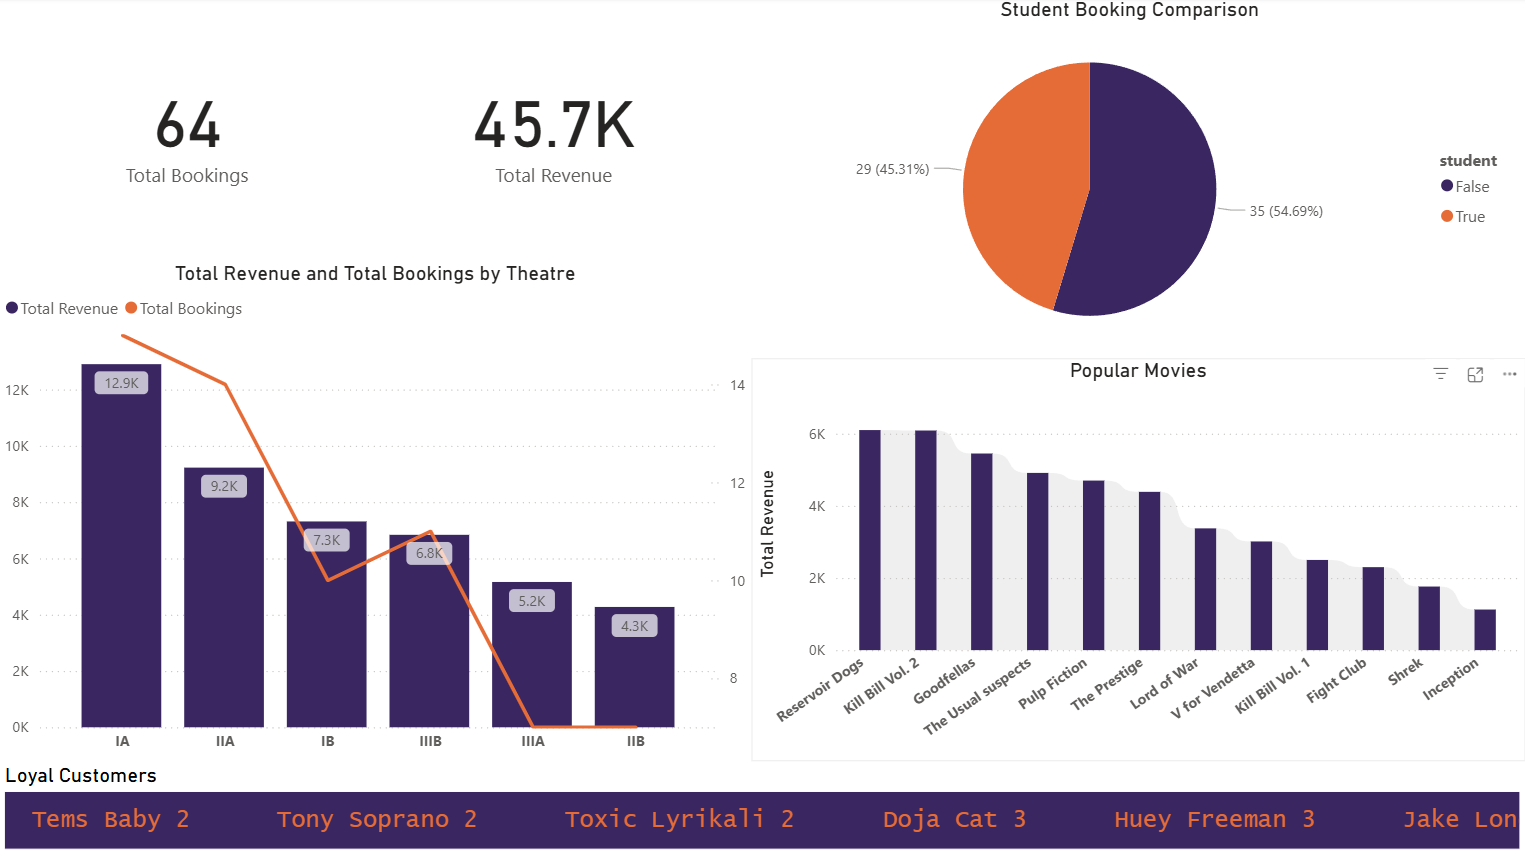

The dashboard page shown, as its layout file describes it:
{"tool":"powerbi","page":{"name":"DASHBOARD","canvas":[1280,720],"ordinal":0},"visuals":[{"type":"card","fields":{"Values":["Sum(fact_booking.total_price)"]},"box":[315.9,0,299.8,221.7],"z":0},{"type":"lineClusteredColumnComboChart","title":"Total Revenue and Total Bookings by Theatre","fields":{"Category":["dim_theatre.theatre_id"],"Y":["fact_booking.Total Revenue"],"Y2":["fact_booking.Total Bookings"]},"box":[0,221.5,631.2,421.2],"z":1000},{"type":"card","fields":{"Values":["fact_booking.Total Bookings"]},"box":[0,0,315.9,221.7],"z":2000},{"type":"pieChart","title":"Student Booking Comparison","fields":{"Category":["dim_customer.student"],"Y":["fact_booking.Total Bookings"]},"box":[616.3,0,664,303.5],"z":3000},{"type":"ScrollingTextVisual1448795304508","title":"Loyal Customers","fields":{"Measure Absolute":["fact_booking.Repeat Customers"],"Category":["dim_customer.name"]},"box":[0,642.7,1280.3,76.8],"z":4000},{"type":"ribbonChart","title":"Popular Movies","fields":{"Y":["fact_booking.Total Revenue"],"Category":["dim_movie.title"]},"box":[631.2,303.4,649.1,338],"z":5000}]}

Visuals, with their boxes in screenshot pixels (x1, y1, x2, y2), scaled from the page's 1280x720 canvas onto the 1525x854 screenshot:
card - Sum(fact_booking.total_price): (left=376, top=0, right=734, bottom=263)
"Total Revenue and Total Bookings by Theatre" lineClusteredColumnComboChart: (left=0, top=263, right=752, bottom=762)
card - fact_booking.Total Bookings: (left=0, top=0, right=376, bottom=263)
"Student Booking Comparison" pieChart: (left=734, top=0, right=1524, bottom=360)
"Loyal Customers" ScrollingTextVisual1448795304508: (left=0, top=762, right=1524, bottom=853)
"Popular Movies" ribbonChart: (left=752, top=360, right=1524, bottom=761)
